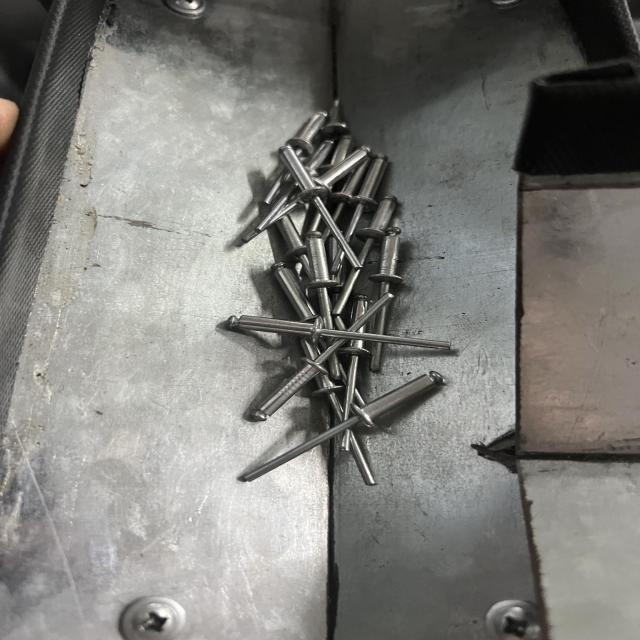rivet: (238, 369, 444, 482), (278, 145, 362, 271), (228, 314, 454, 352)
